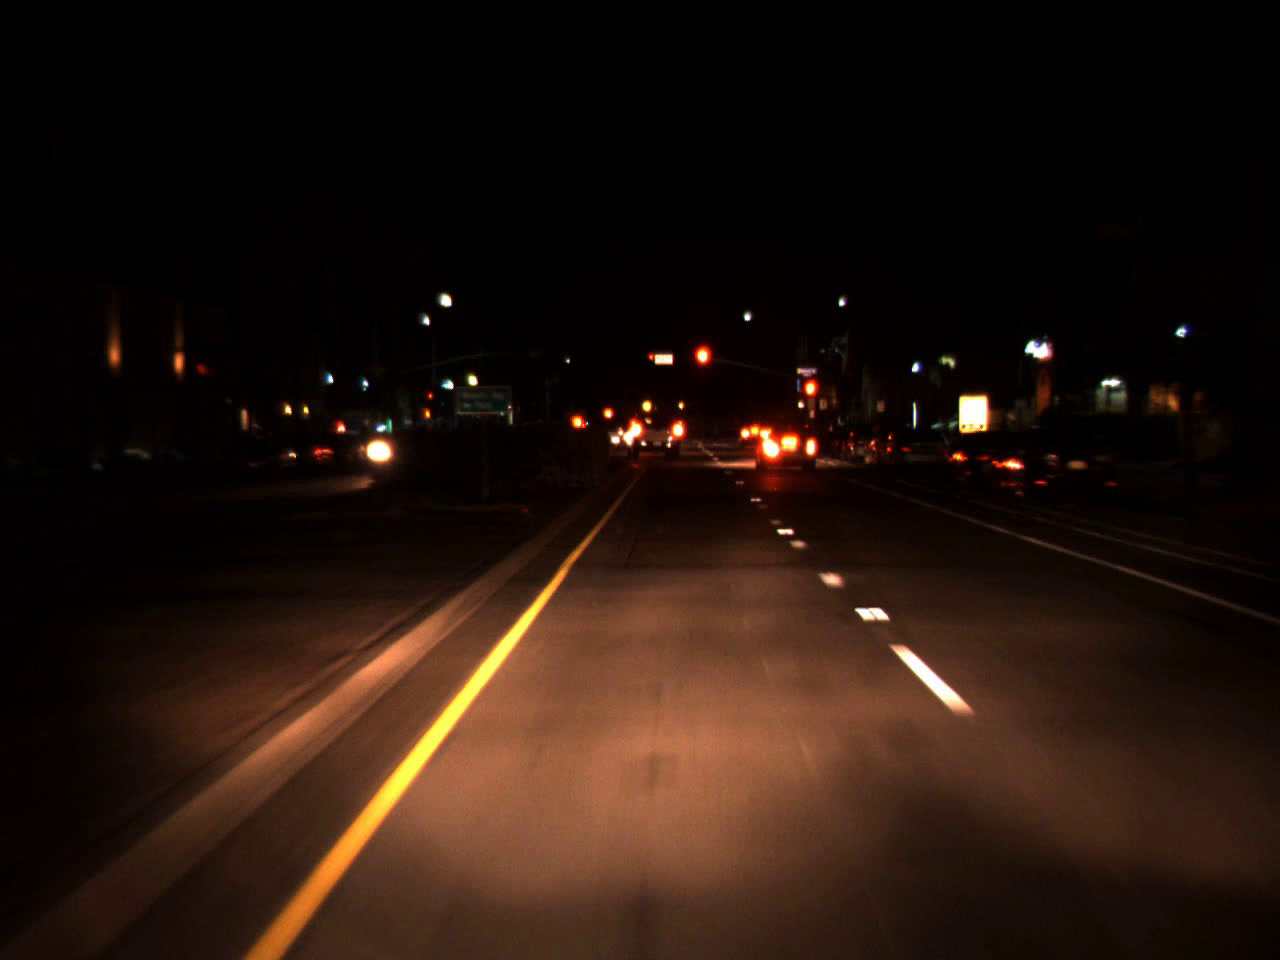stop: (691, 341, 713, 389), (800, 376, 821, 419), (426, 390, 433, 406), (649, 352, 655, 368)
